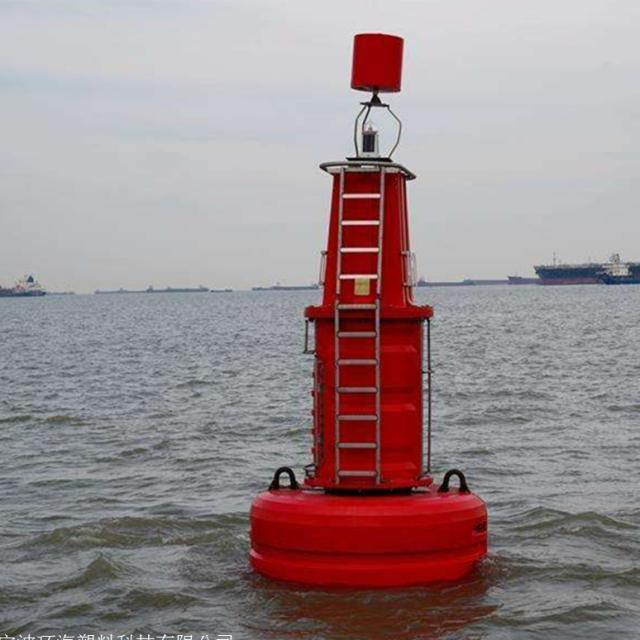buoy: (243, 20, 491, 584)
